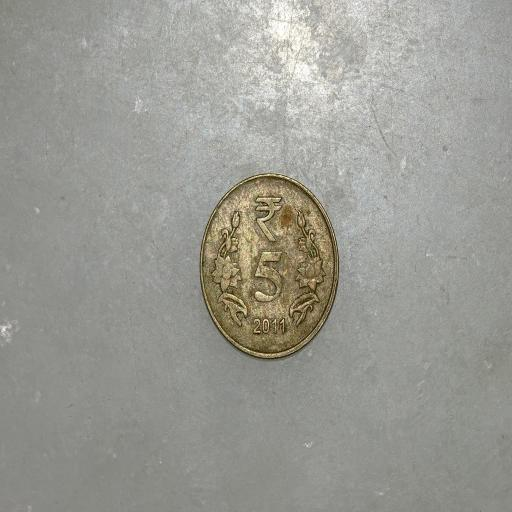rupee5: (194, 171, 340, 362)
